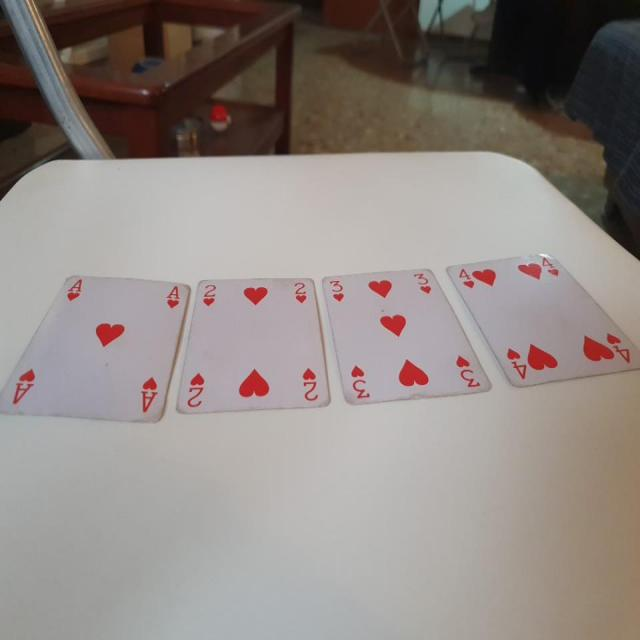2 Hearts: (172, 266, 329, 429)
3 Hearts: (324, 257, 496, 422)
4 Hearts: (449, 241, 640, 391)
A Hearts: (3, 260, 190, 433)
